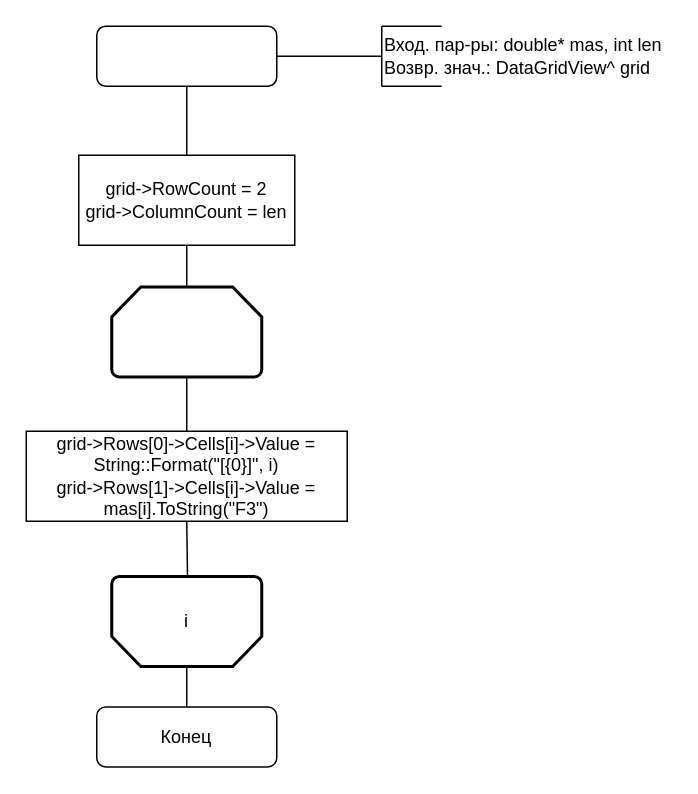
This 698x794 diagram has some shape labels left out. Here are the shapes that lost their labels. From the top down, the centre of each, then its label:
the point at 186,55: output_mas
the point at 186,331: i = 0; i < n; ++i
